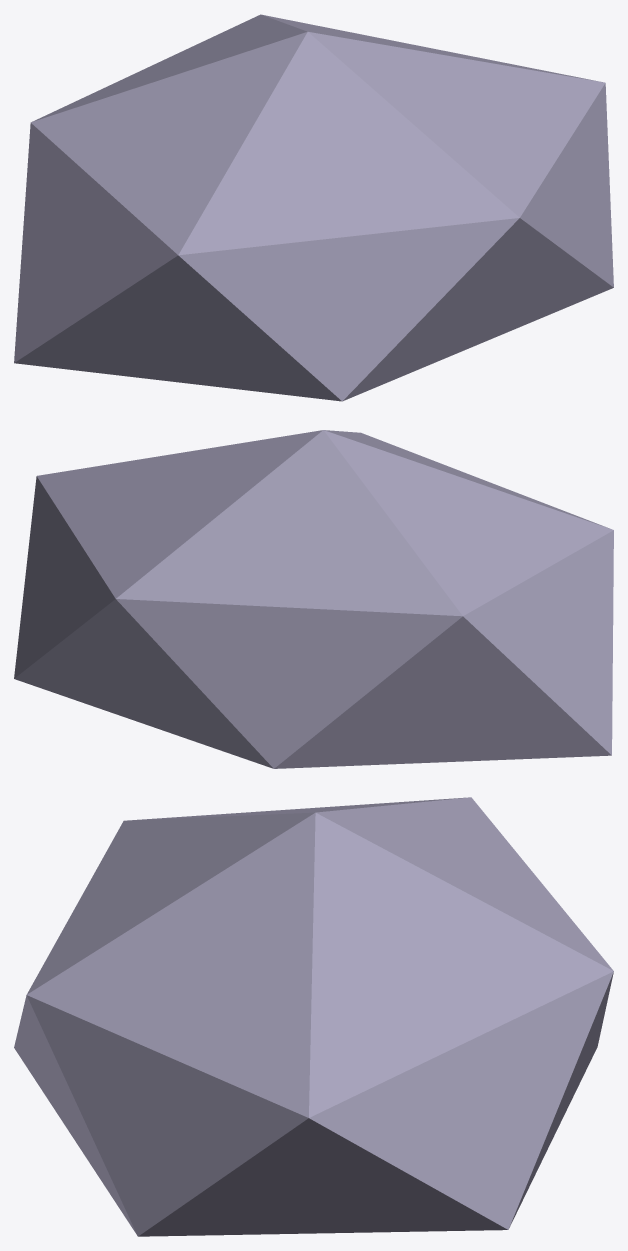
Rendered from stone_tile_2.glb.
3 views of the same model, one above another, from view 1: azimuth 30°, elevation 25°; view 2: azimuth 150°, elevation 25°; view 3: azimuth 270°, elevation 25° (orthographic). The views are drawn at different scales.
Visible parts, largest first — view 1: stone_tile_2; view 2: stone_tile_2; view 3: stone_tile_2.
Part boxes in pixels (x1,y1,x2,y2): stone_tile_2: [14, 14, 613, 401]; stone_tile_2: [14, 430, 613, 768]; stone_tile_2: [14, 797, 613, 1236].
Bounding box in the file's own units: 1.09 × 0.5699 × 0.835.
